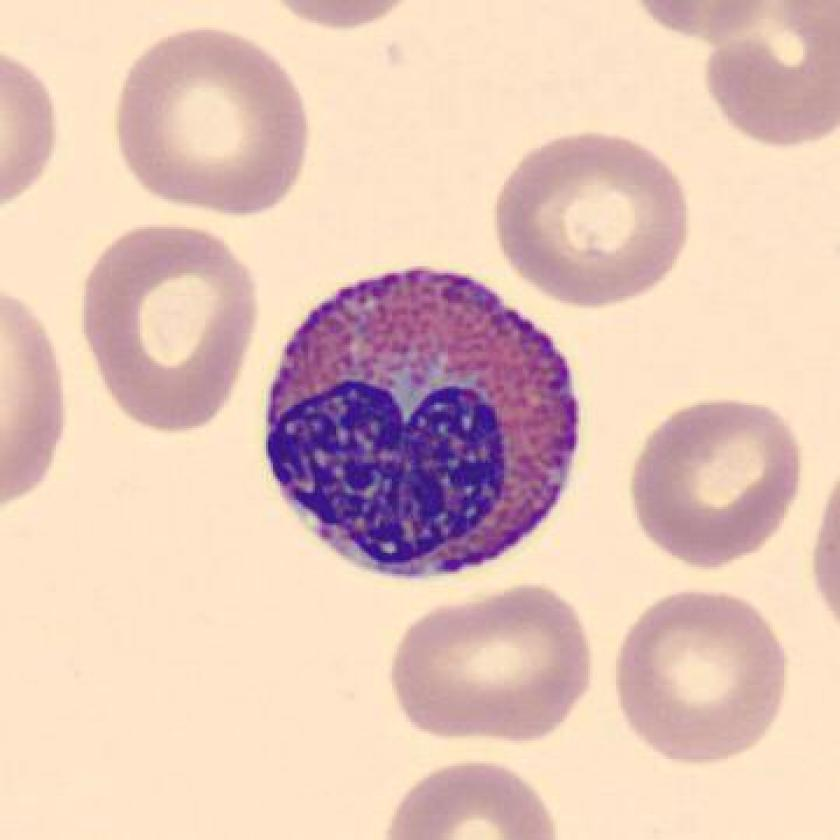eosinophil: (251, 256, 594, 601)
